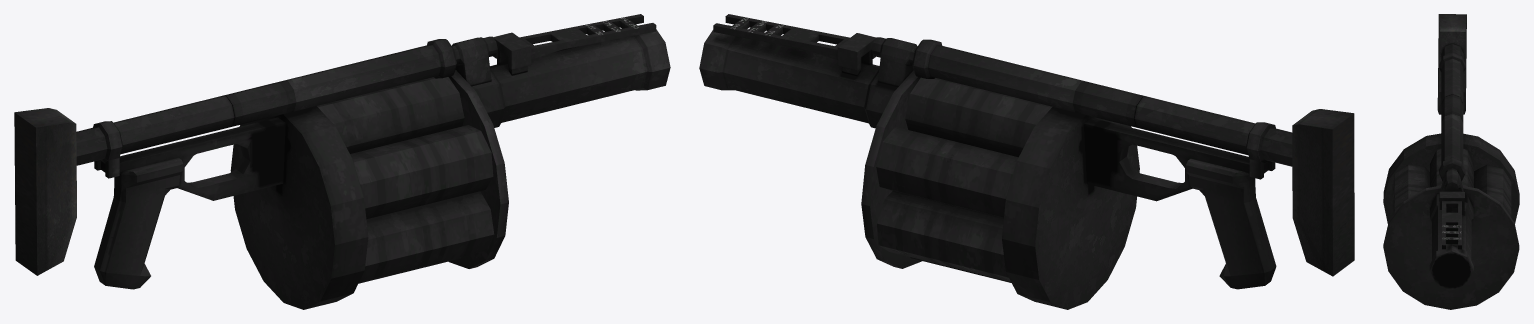
The model's file is grenade.gltf.
The picture shows the model from 3 angles, left to right: view 1: azimuth 30°, elevation 25°; view 2: azimuth 150°, elevation 25°; view 3: azimuth 270°, elevation 25°; orthographic projection. The views are drawn at different scales.
Parts seen in each view (by area): view 1: gl.png; view 2: gl.png; view 3: gl.png.
Part boxes in pixels (x1,y1,x2,y2): gl.png: [14, 14, 670, 309]; gl.png: [699, 14, 1354, 309]; gl.png: [1383, 14, 1519, 309].
Bounding box in the file's own units: 4.33 × 1.61 × 1.25.
1 material, 1 textured.
